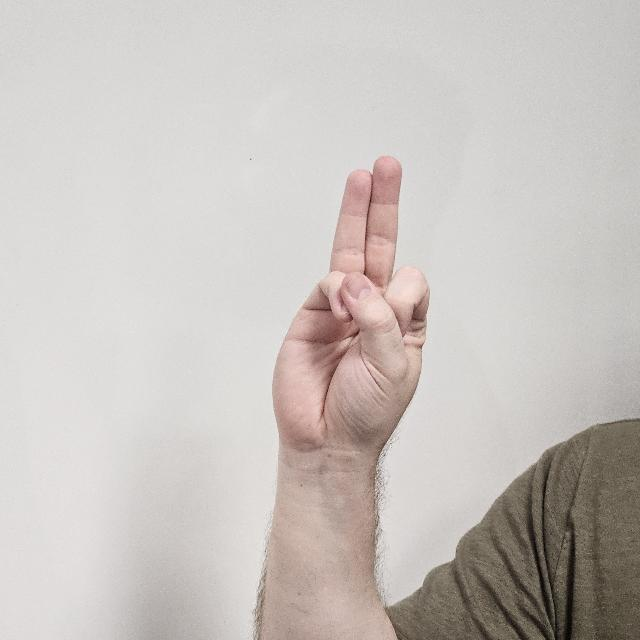R: (274, 154, 428, 478)
